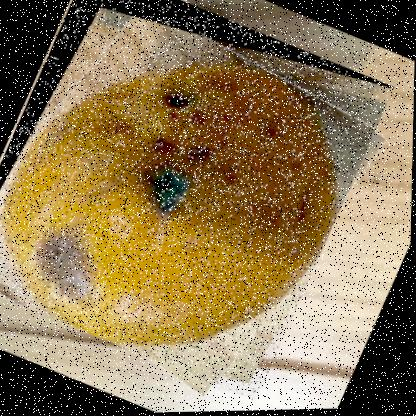orange_rotten: (0, 0, 397, 407)
